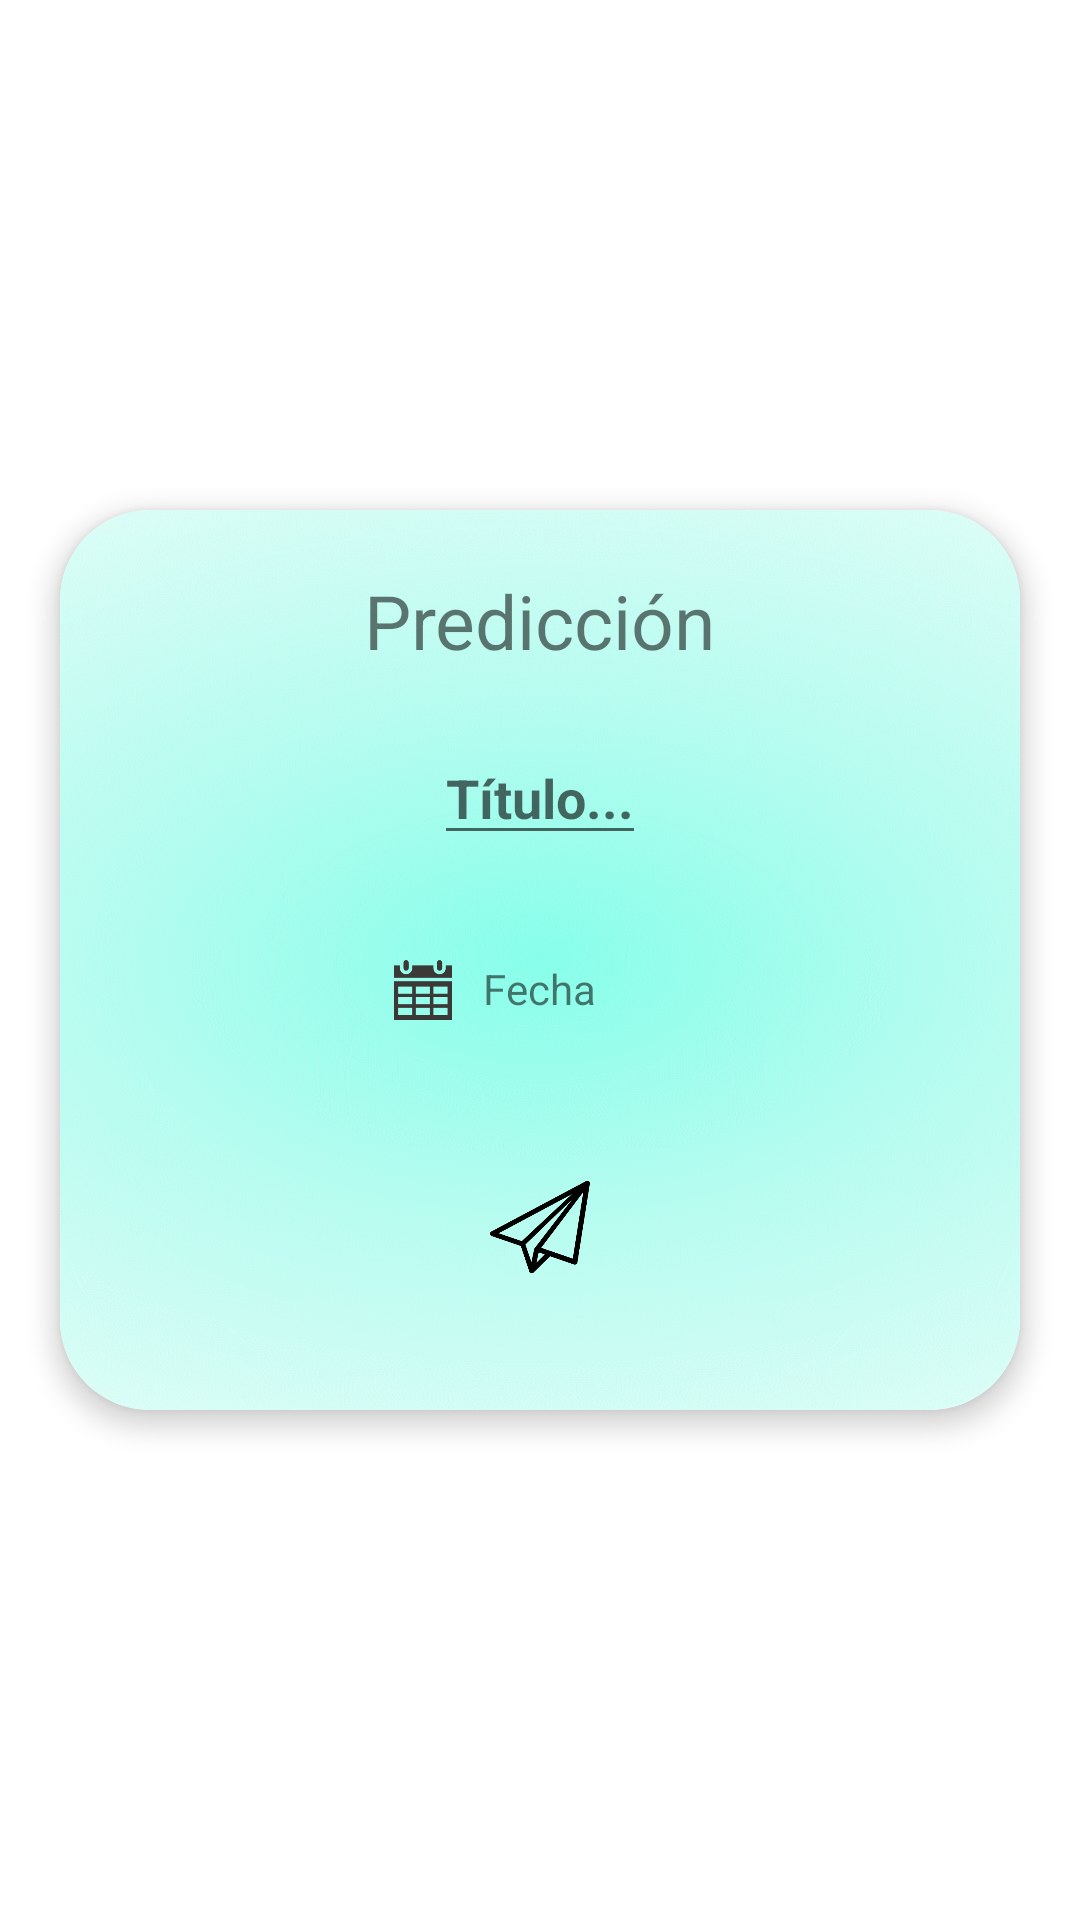

Screen size 1080w x 1920h. Icon name, then its box in pixels as [left=x1, top=y1, right=x2, bottom=y2]:
enviar: [left=490, top=1181, right=590, bottom=1273]
